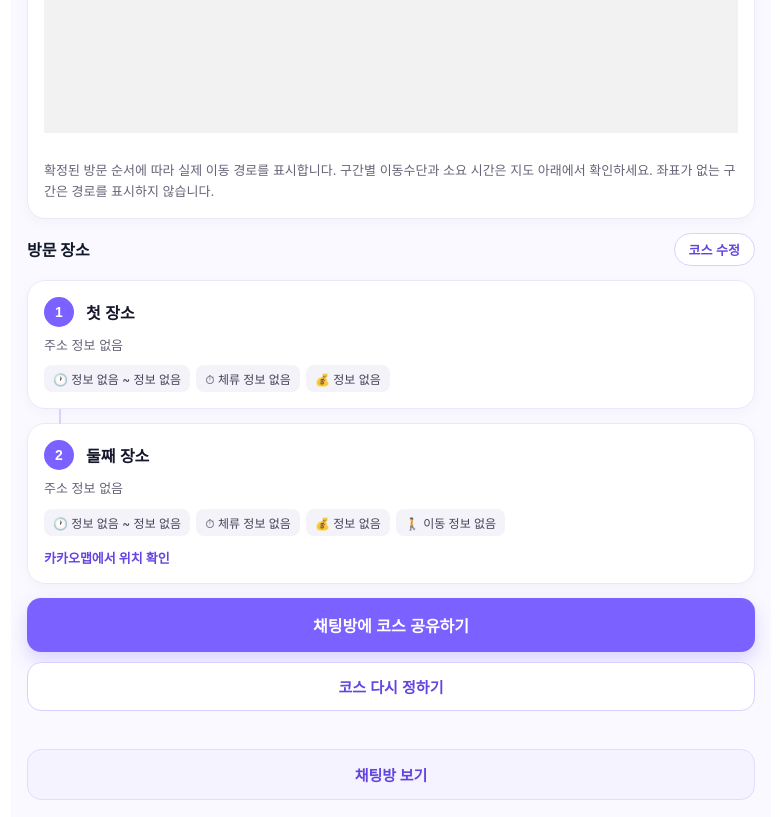
Scenario: 공유 전송 실패는 오류 안내
The image size is (783, 817).
(page scrolled)
Click the button "채팅방에 코스 공유하기".
click(391, 625)  # box [27, 598, 755, 652]
(page scrolled)
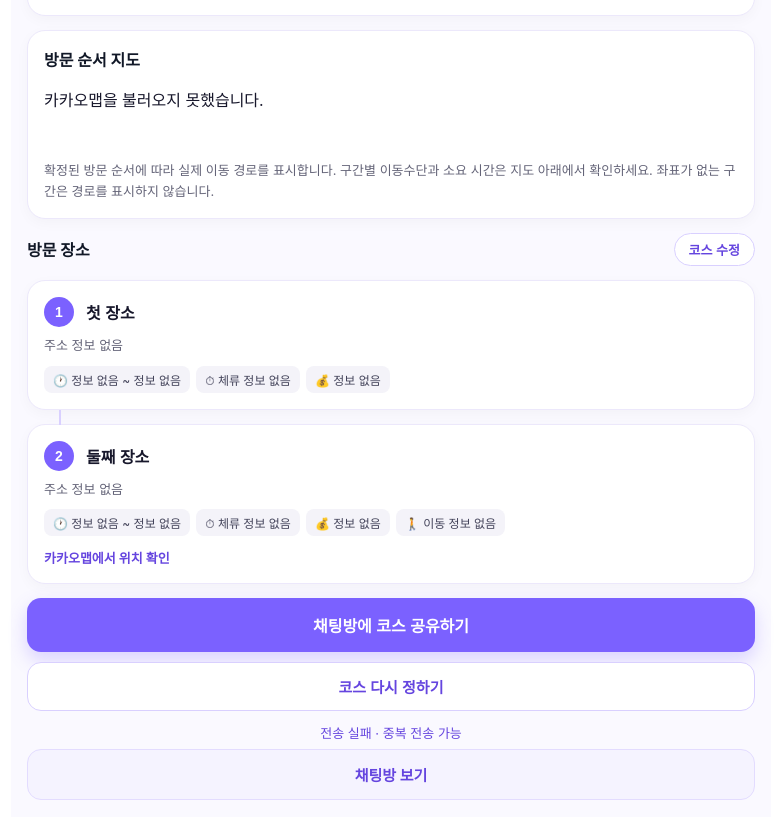
Expected: the message named "코스 공유 및 변경 결과" shows "전송 실패", [320, 725, 462, 741]
